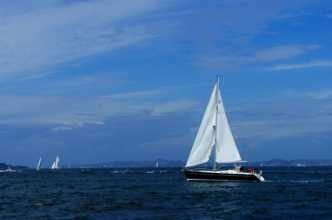fanchuan: (181, 73, 262, 187)
